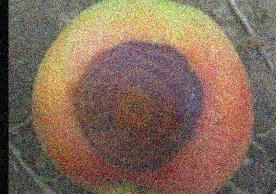rotten apple: (24, 1, 255, 193)
